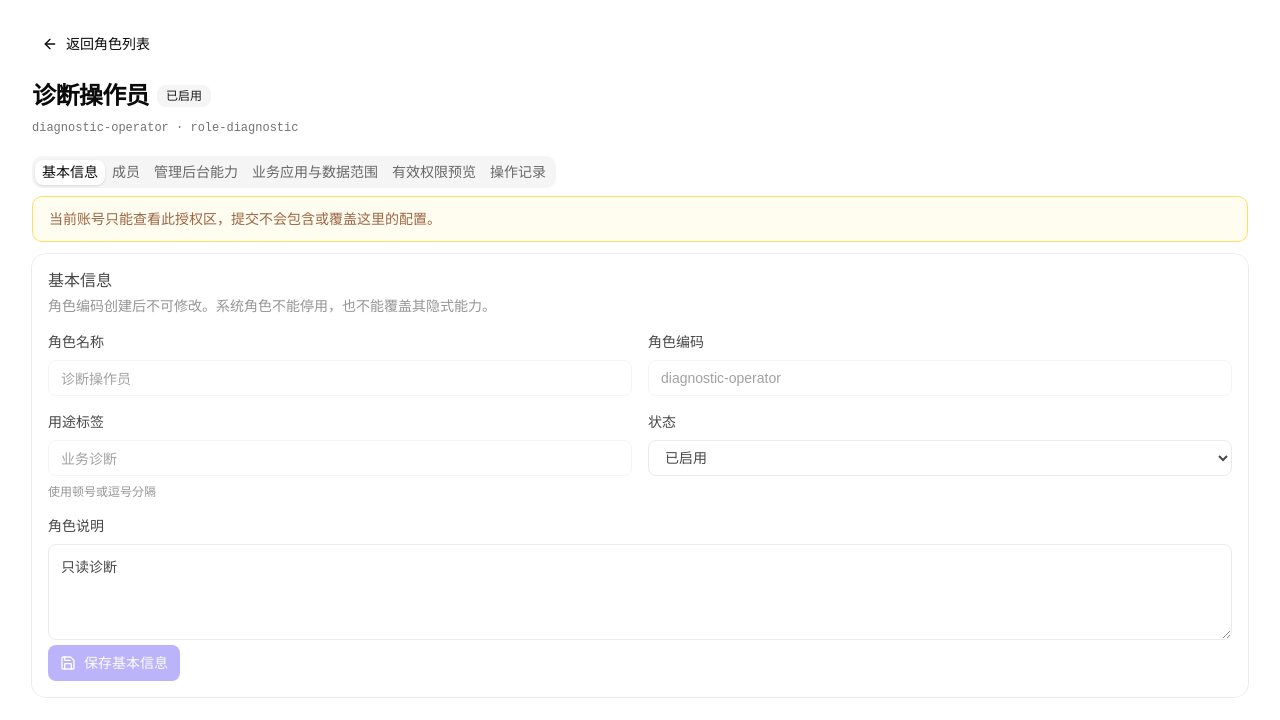
Test: 角色授权中心 › 分区 revision 冲突保留本地草稿并触发未保存离开保护
This screenshot has width=1280, height=720.
Expected: the heading "诊断操作员" is shown, [32,80,149,112]
Click the tab "管理后台能力": (196,172) [147,160,245,184]
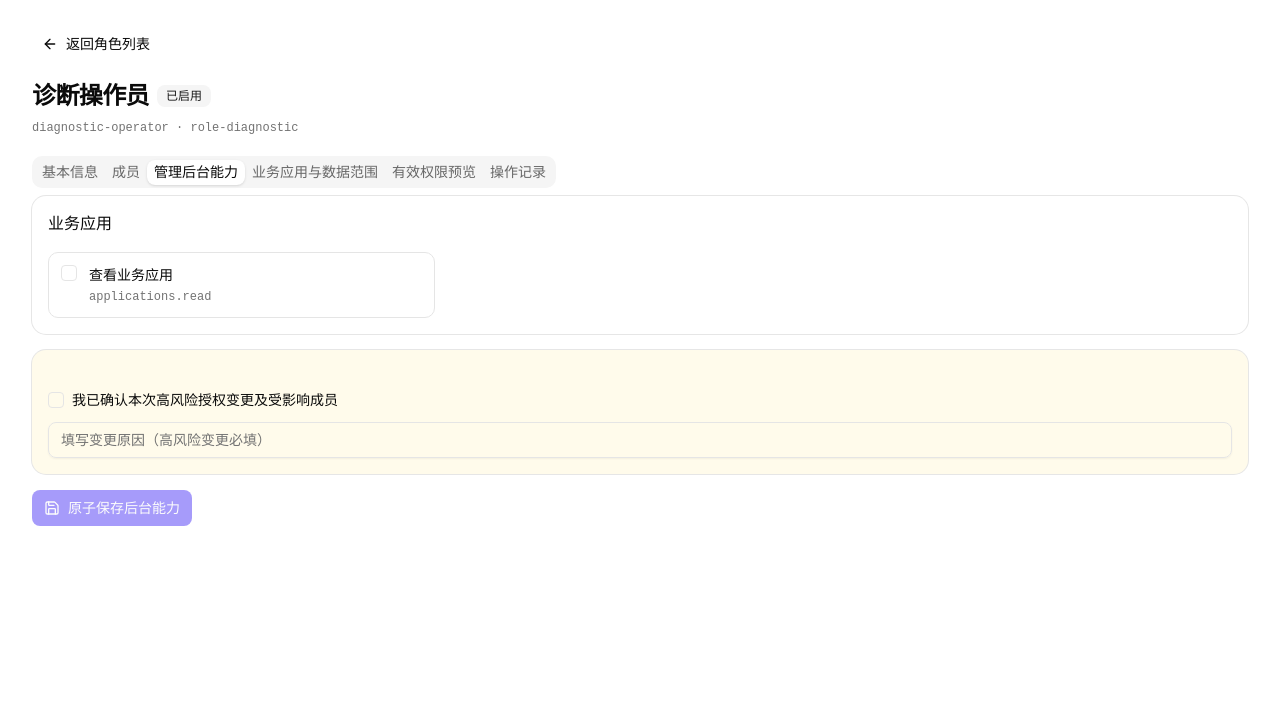
Click the checkbox named "查看业务应用" next to "查看业务应用": (69,273) [61,265,77,281]
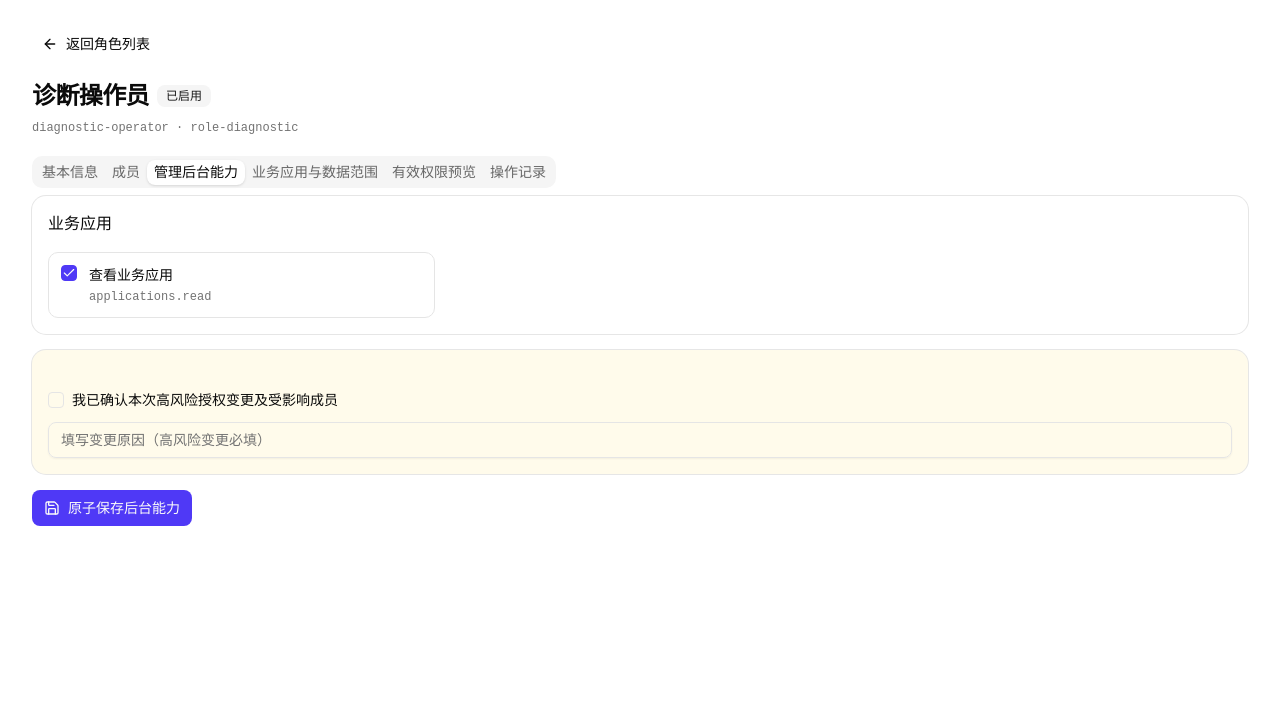
Click the button "原子保存后台能力": (112,508) [32,490,192,526]
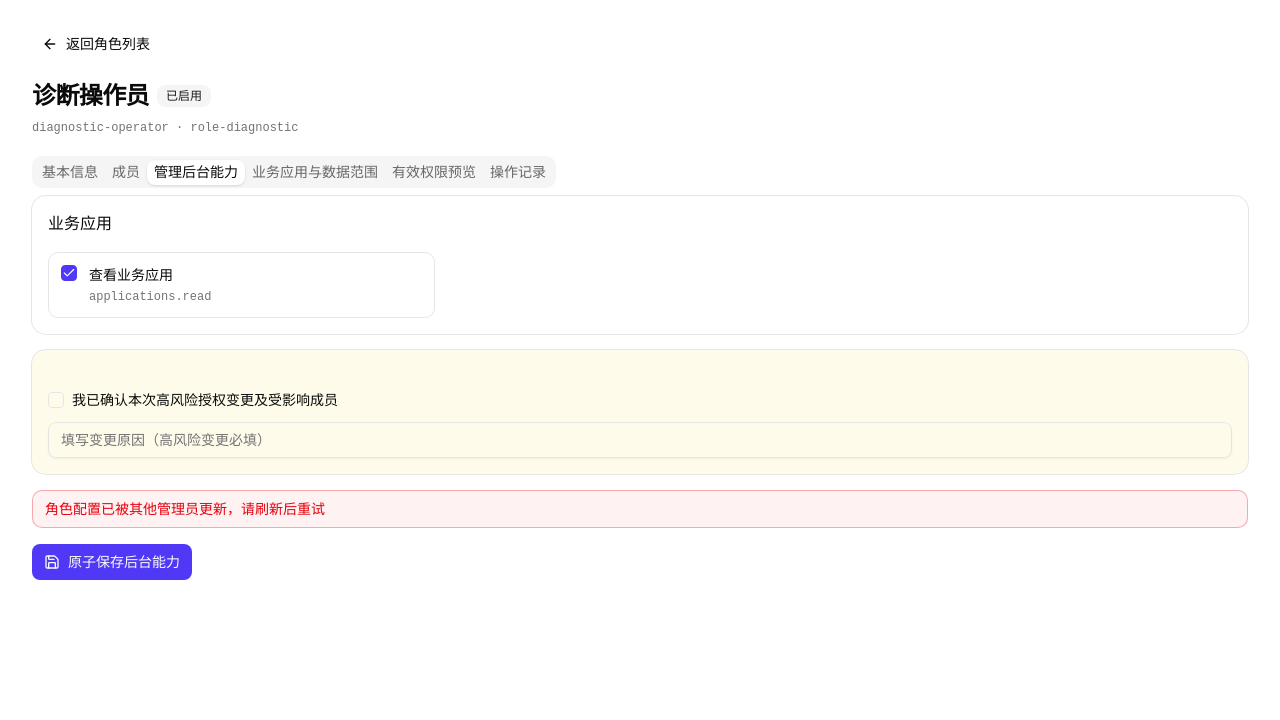
Result: the text "角色配置已被其他管理员更新，请刷新后重试" is shown at [32,490,1248,528]
